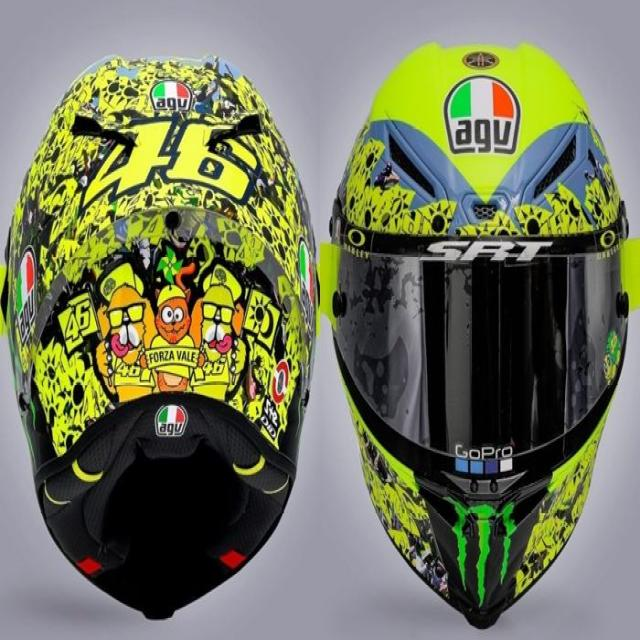Helm: (320, 39, 639, 630), (0, 48, 319, 626)
